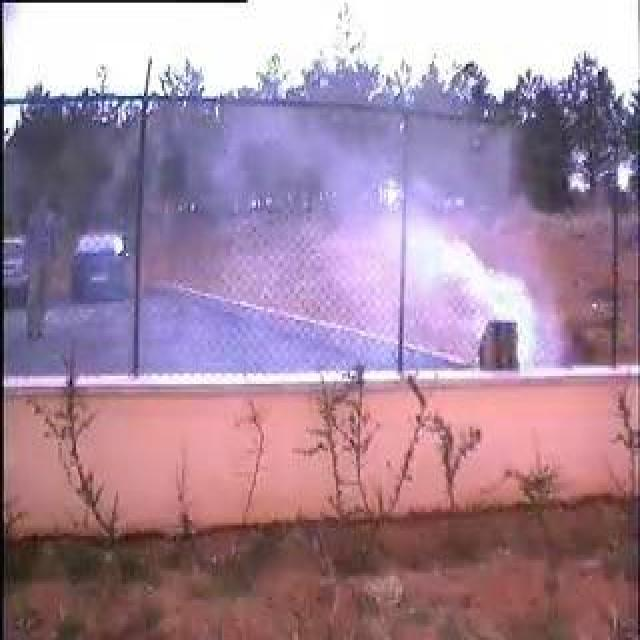Smoke: (246, 108, 554, 375)
